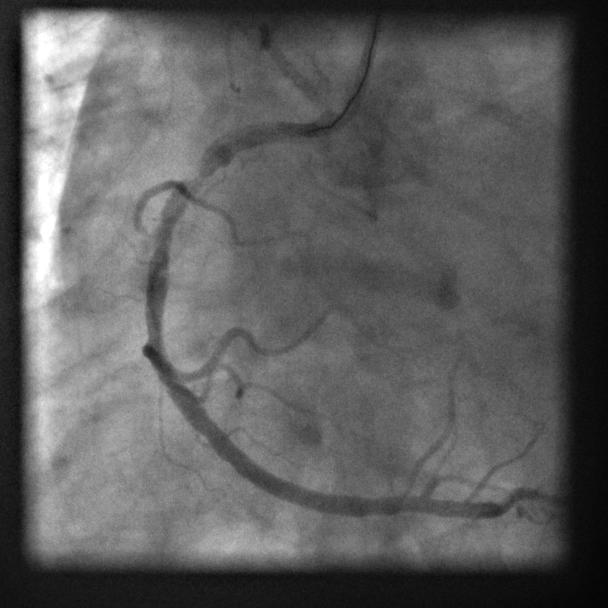Stenosis: (179, 155, 217, 199)
